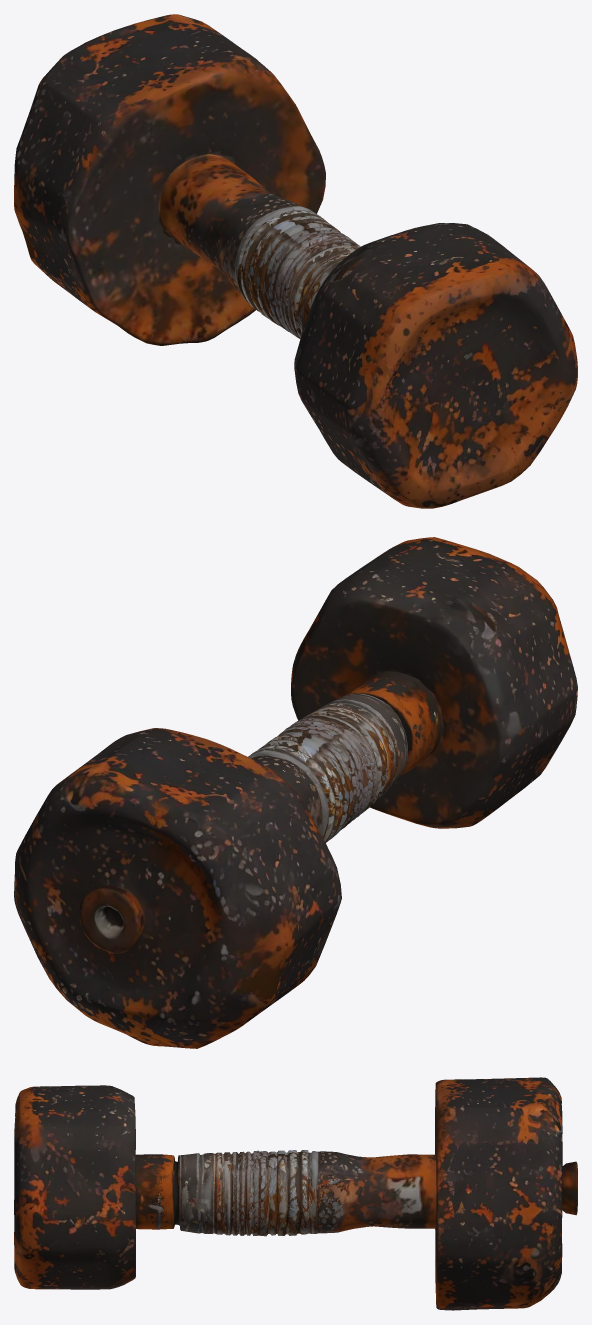
The model's file is prop-dumbbell.glb.
3 renders of one model, top to bottom at view 1: azimuth 30°, elevation 25°; view 2: azimuth 150°, elevation 25°; view 3: azimuth 270°, elevation 25°, orthographic. The views are drawn at different scales.
Visible parts, largest first — view 1: tripo_node_66534dc3-430e-4480-9912-97404027aba1; view 2: tripo_node_66534dc3-430e-4480-9912-97404027aba1; view 3: tripo_node_66534dc3-430e-4480-9912-97404027aba1.
Boxes of the visible parts, x1,y1,x2,y2 form: tripo_node_66534dc3-430e-4480-9912-97404027aba1: (14, 14, 577, 508); tripo_node_66534dc3-430e-4480-9912-97404027aba1: (14, 537, 577, 1048); tripo_node_66534dc3-430e-4480-9912-97404027aba1: (14, 1077, 577, 1310).
Bounding box in the file's own units: 0.4208 × 0.4162 × 1.
1 material, 1 textured.
